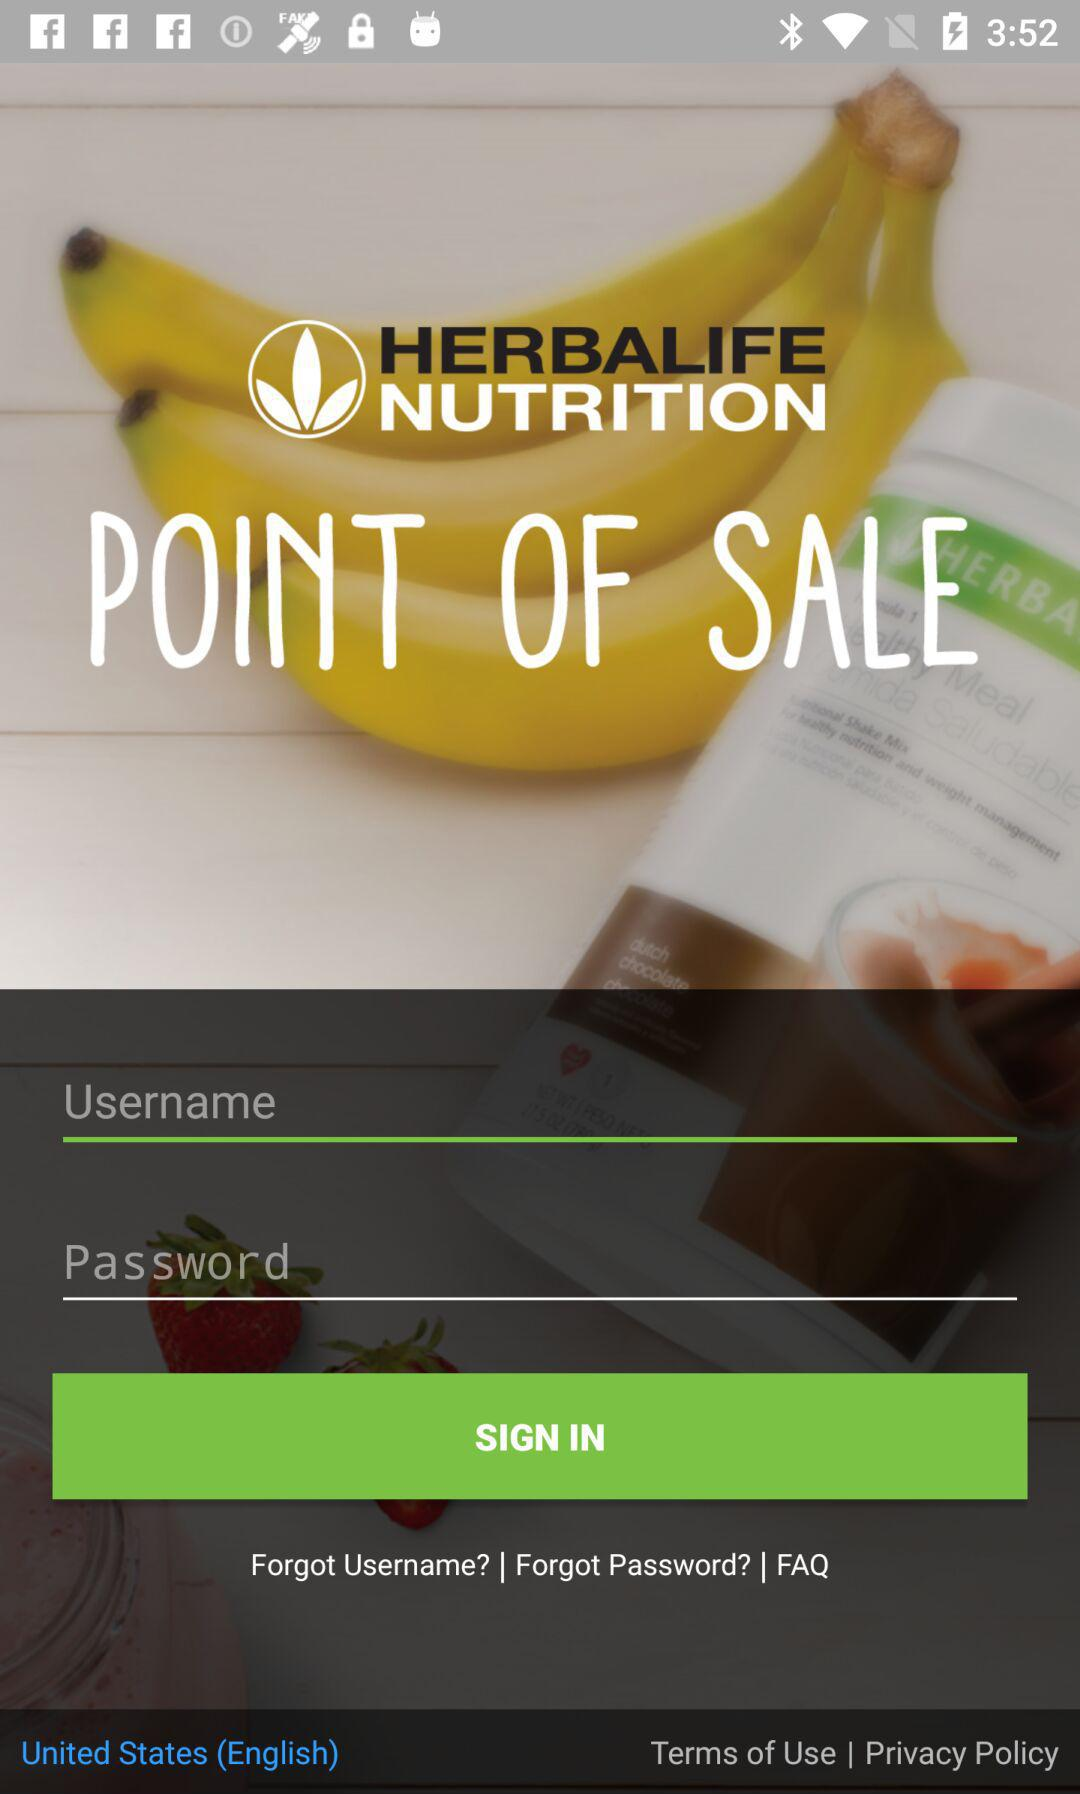EditText: (63, 1083, 1019, 1144), (63, 1242, 1019, 1302)
Image: (249, 320, 828, 441)
Text: (90, 511, 979, 673), (650, 1739, 1060, 1773), (22, 1738, 340, 1773), (67, 1242, 290, 1281), (65, 1084, 277, 1123), (516, 1551, 752, 1583), (252, 1553, 491, 1583), (776, 1553, 829, 1580)
TextButton: (53, 1372, 1027, 1501)
UpperTaskBar: (1, 1, 1080, 64)
